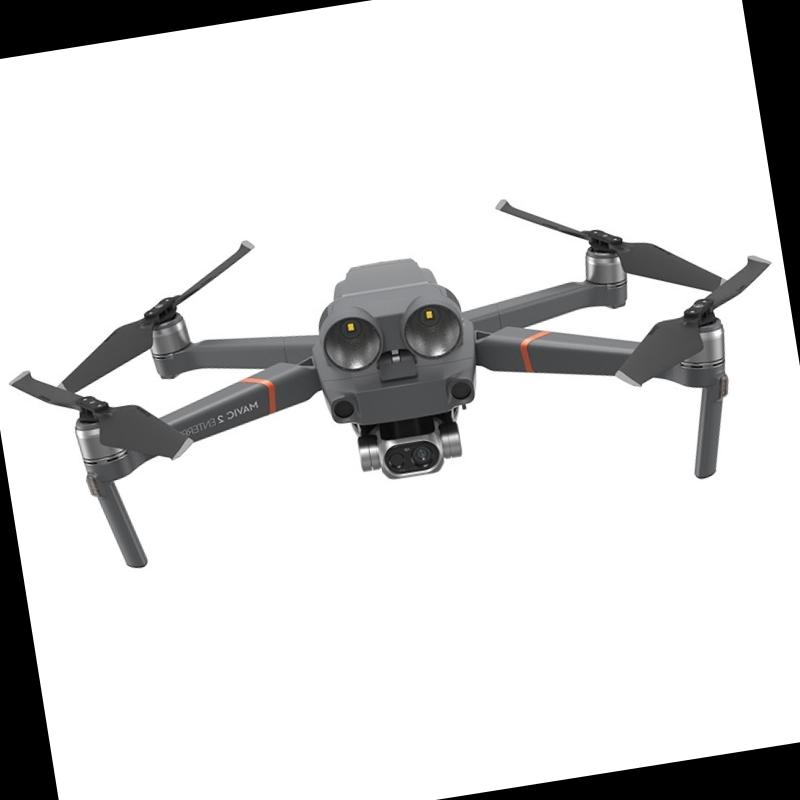drone: (1, 172, 800, 606)
